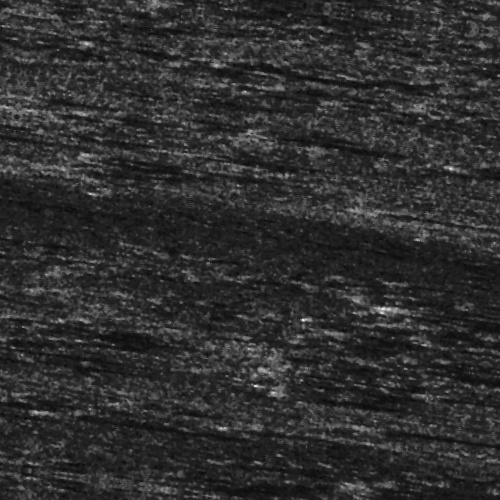object: (318, 277, 475, 292), (56, 429, 129, 442), (203, 421, 286, 432), (13, 186, 96, 197), (209, 127, 302, 136), (338, 403, 421, 412), (359, 189, 390, 198), (0, 440, 32, 447)
shadow: (93, 429, 444, 442), (245, 421, 403, 432), (397, 277, 500, 292), (256, 127, 402, 136), (380, 403, 500, 412), (55, 186, 147, 197), (375, 189, 477, 198), (1, 440, 99, 447), (0, 165, 62, 170), (0, 430, 58, 435), (0, 265, 30, 274)
